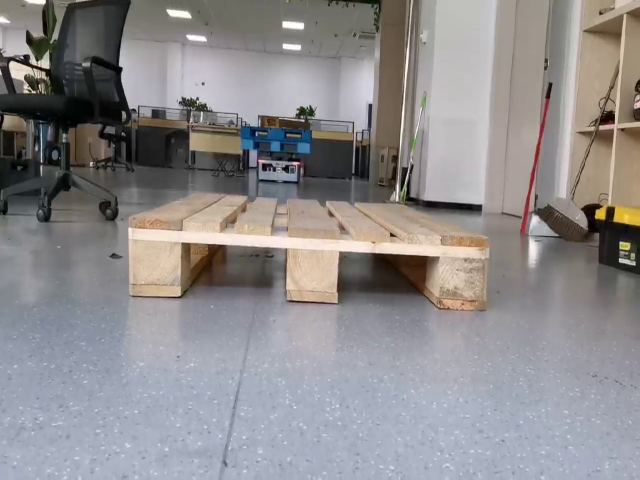block: (434, 237, 491, 309), (131, 224, 185, 299), (285, 245, 340, 307)
front: (131, 220, 489, 311)
hole pallet: (187, 246, 286, 303), (338, 252, 439, 304)
